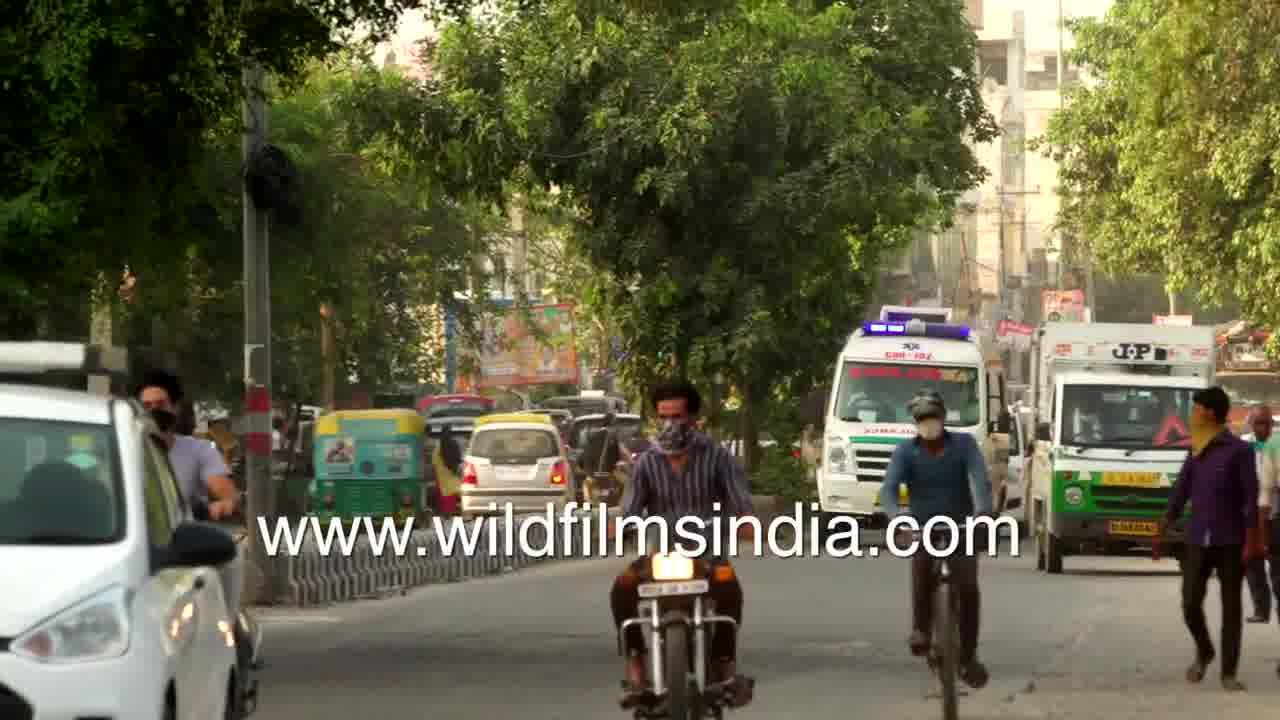AMBULANCE: (815, 299, 1010, 522)
